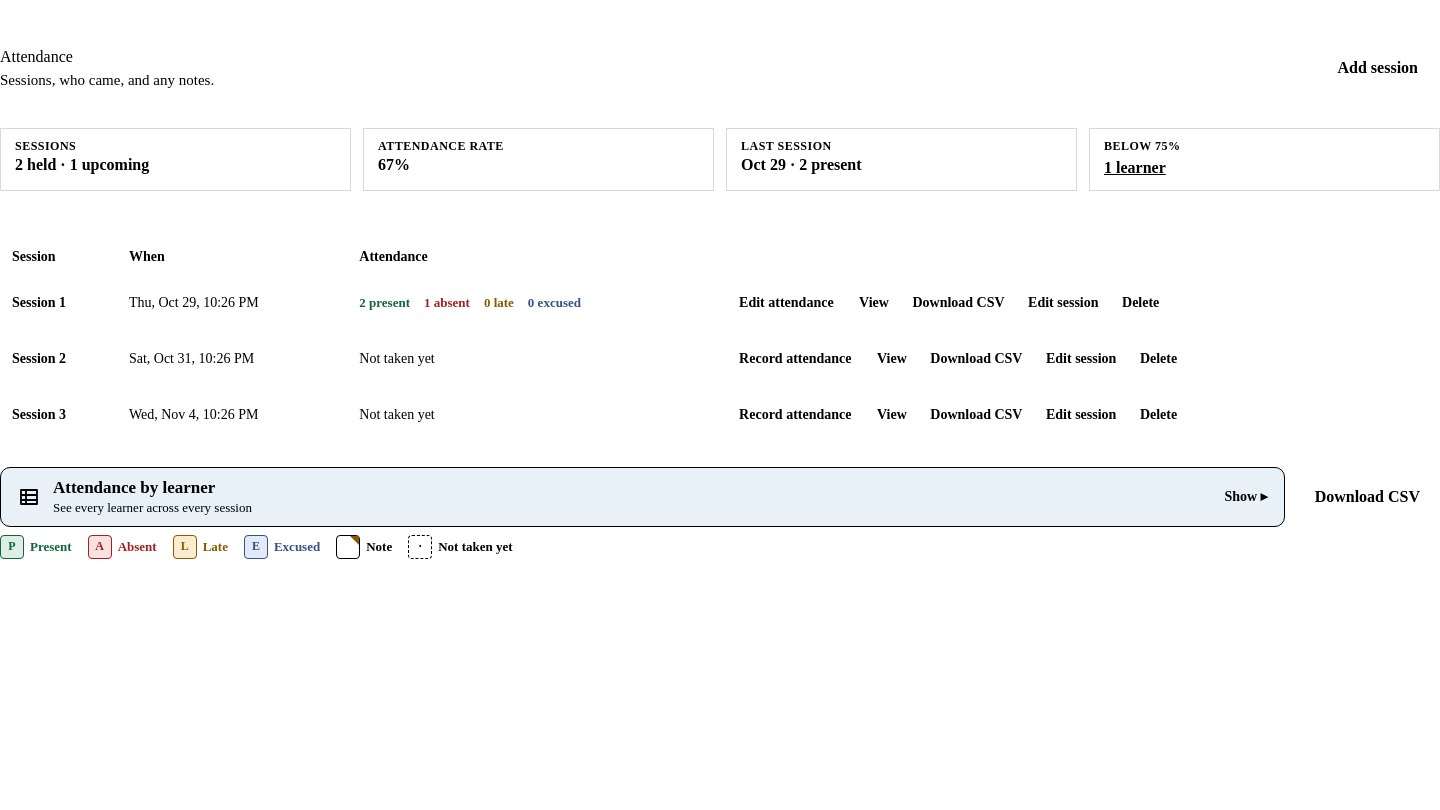
Test: sessions table › Record attendance opens the sheet dialog; Esc closes it and returns focus
Click the button "Record attendance" in the row of "Session 2": (795, 359) [727,341,864,377]
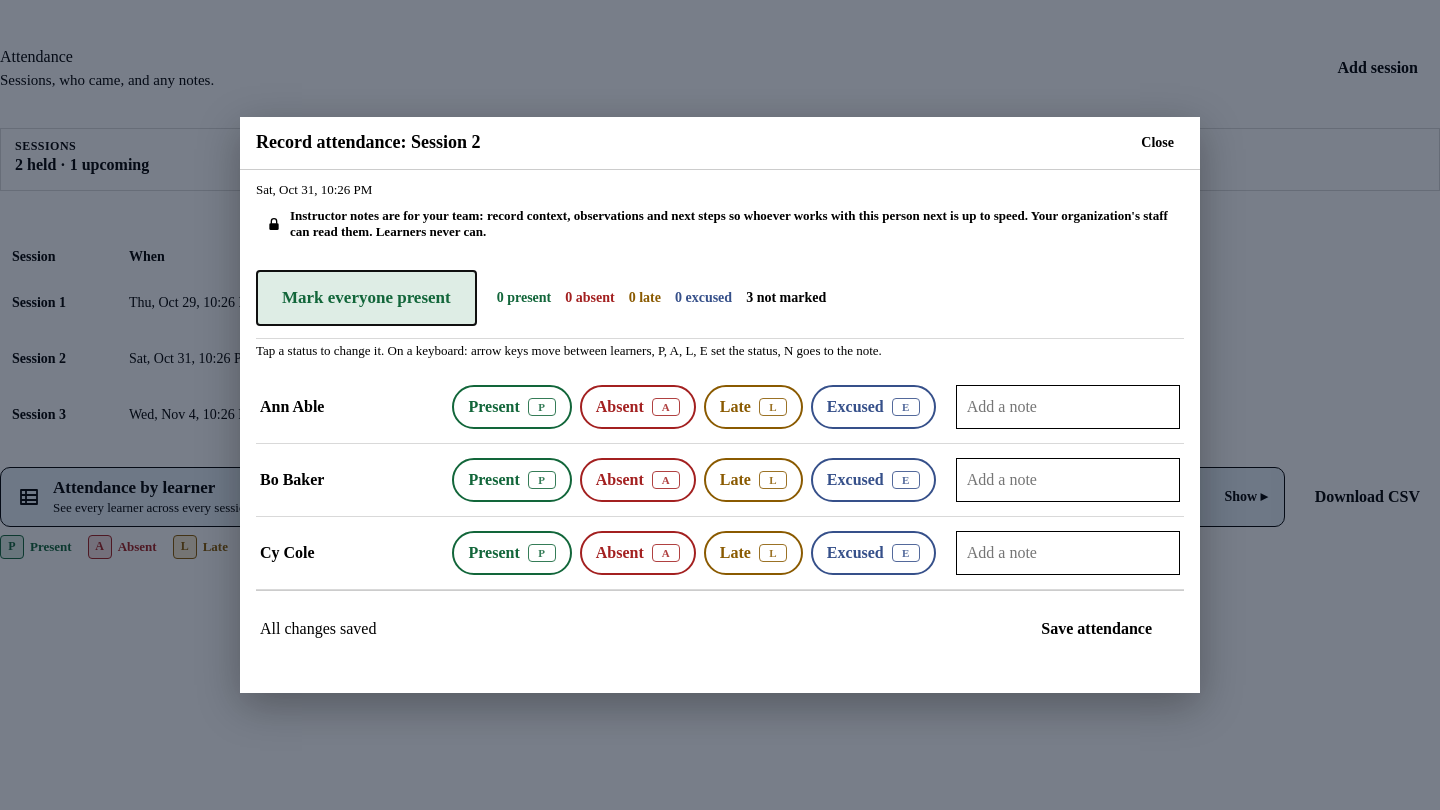
Now the dialog "Record attendance: Session 2" is shown, box [240,117,1200,693]
Press Escape
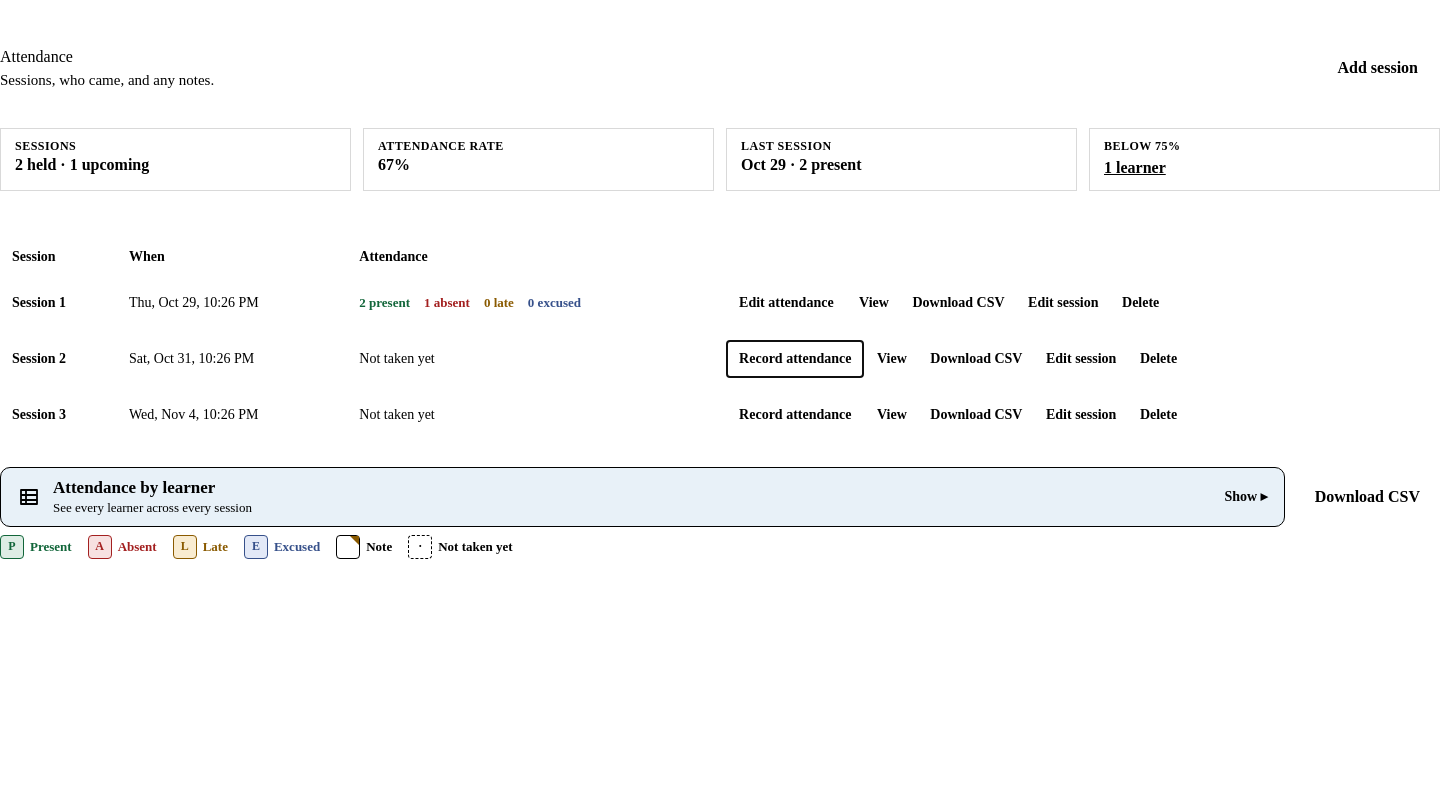
Now the dialog is gone
